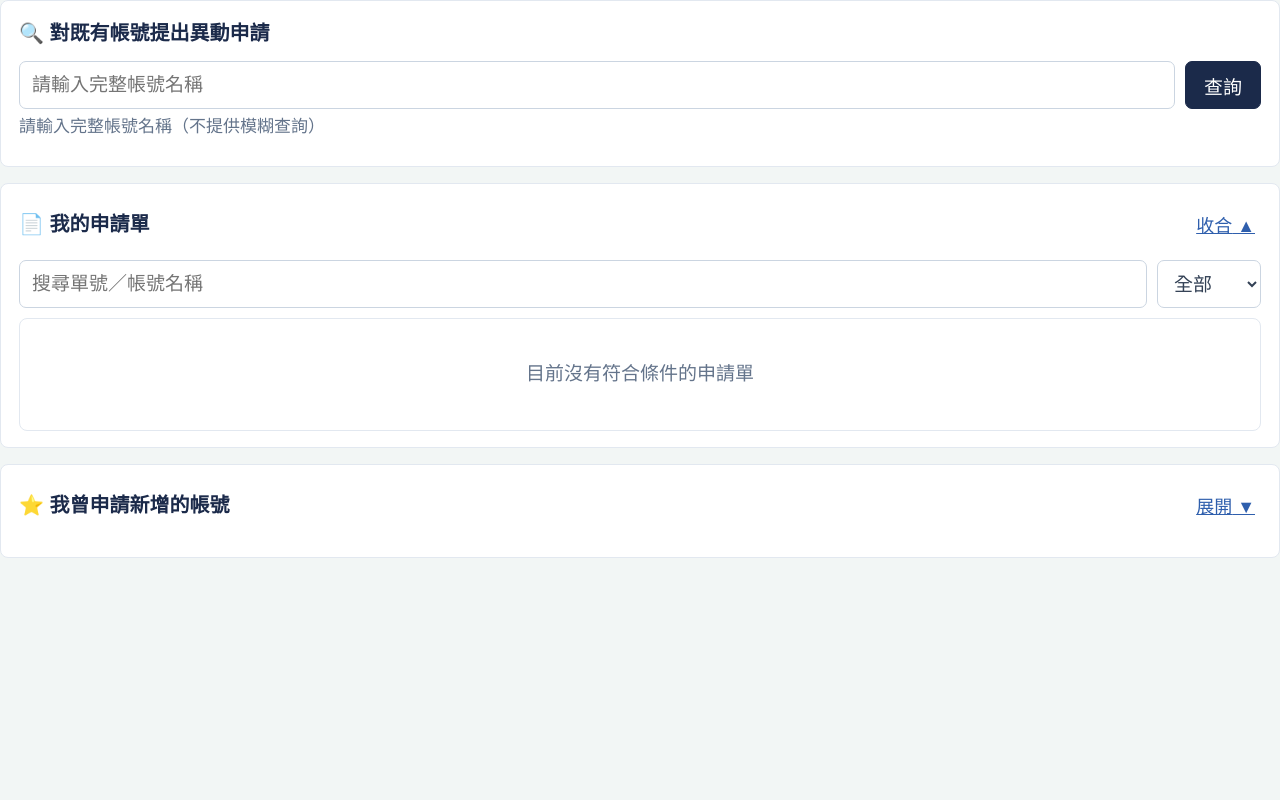
Test: 帳號申請單列表 › 區塊順序：我的申請單在我曾申請新增的帳號上方；預設前者展開、後者收合；鈕可切換；收合只藏不拆
Expected: the button with class "sec-toggle" shows "收合", top-left (1190, 200), bottom-right (1261, 248)
Expected: the button with class "sec-toggle" shows "展開", top-left (1190, 481), bottom-right (1261, 529)
收合期間保留篩選狀態：輸入關鍵字 → 收合 → 展開，值還在
Type "AR9" into the field named "搜尋單號或帳號名稱" at (583, 284), box top-left (19, 260), bottom-right (1147, 308)
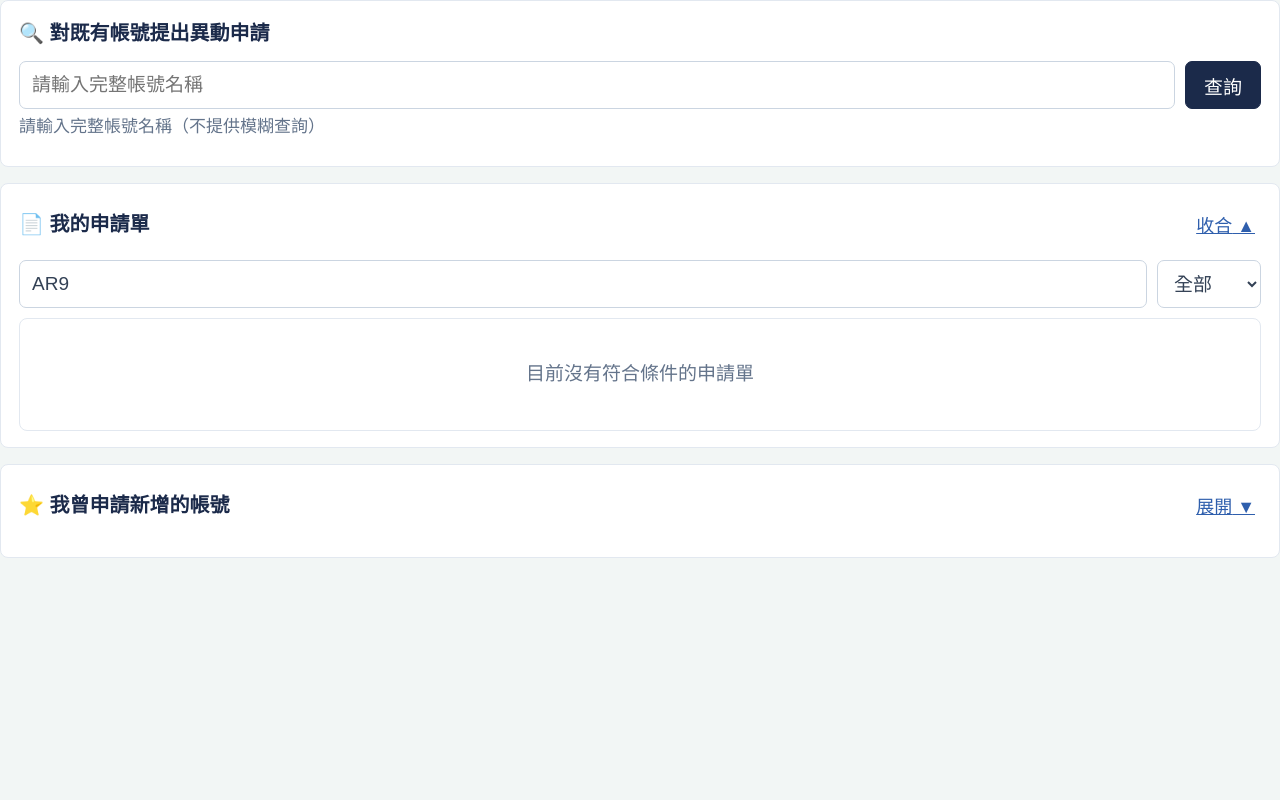
Click the button with class "sec-toggle" showing "收合 ▲" at (1226, 224), box top-left (1190, 200), bottom-right (1261, 248)
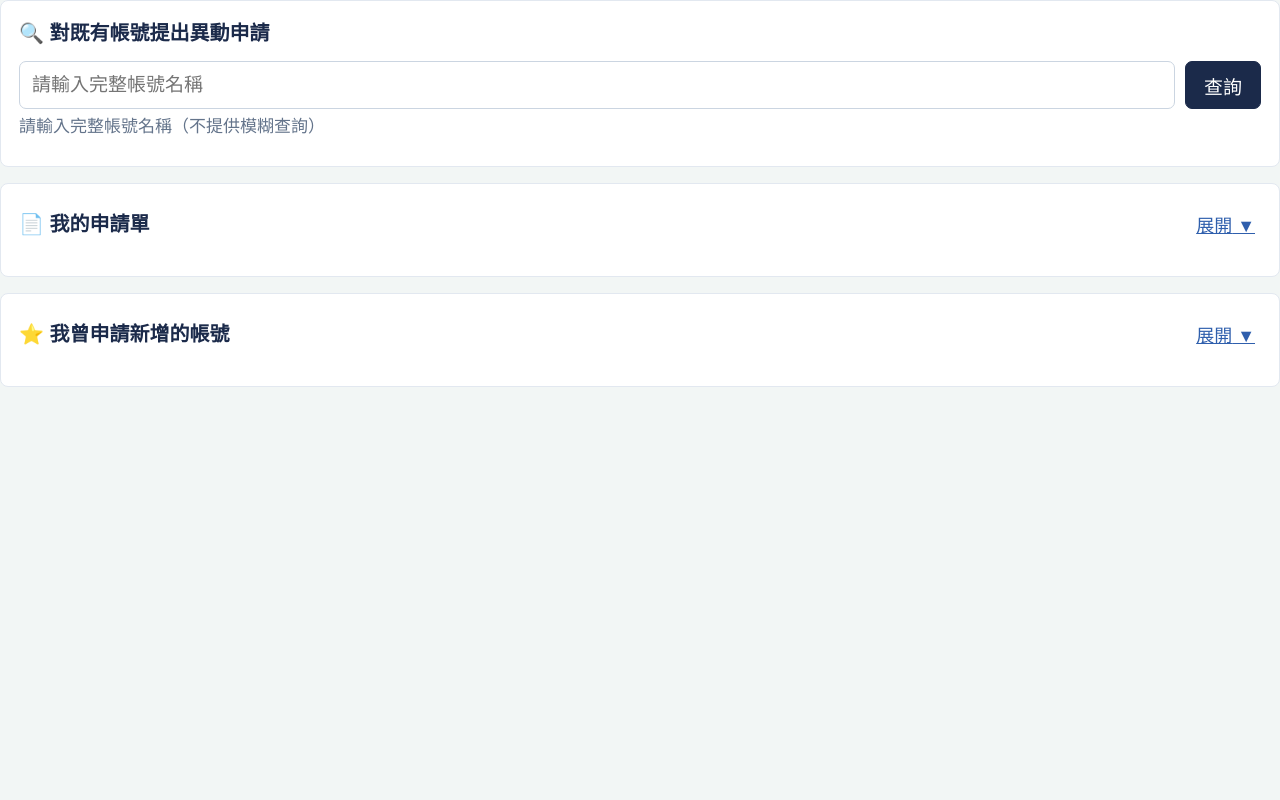
Result: the button with class "sec-toggle" in the row of "📄 我的申請單" shows "展開"
Result: the button with class "sec-toggle" in the row of "📄 我的申請單" is collapsed
Click the button with class "sec-toggle" in the row of "📄 我的申請單" at (1226, 224), box top-left (1190, 200), bottom-right (1261, 248)
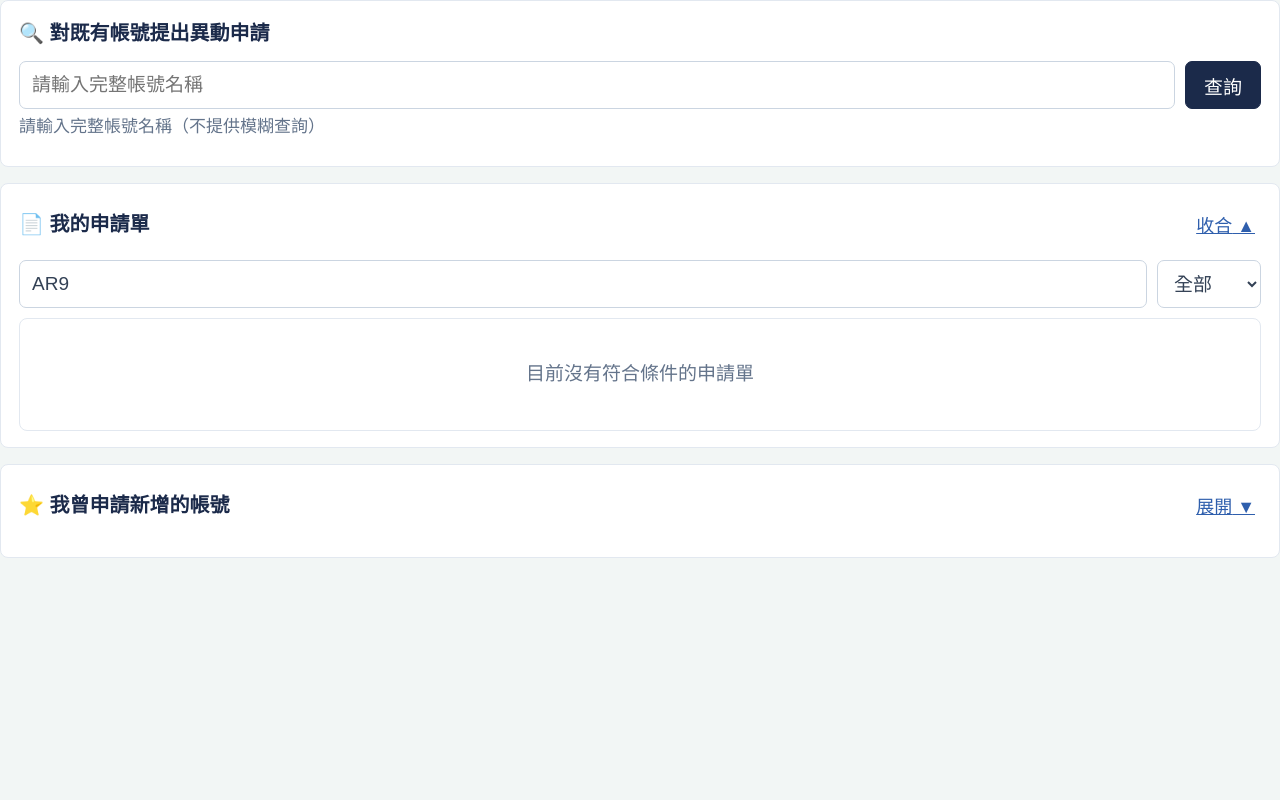
Click the button with class "sec-toggle" showing "展開 ▼" at (1226, 505), box top-left (1190, 481), bottom-right (1261, 529)
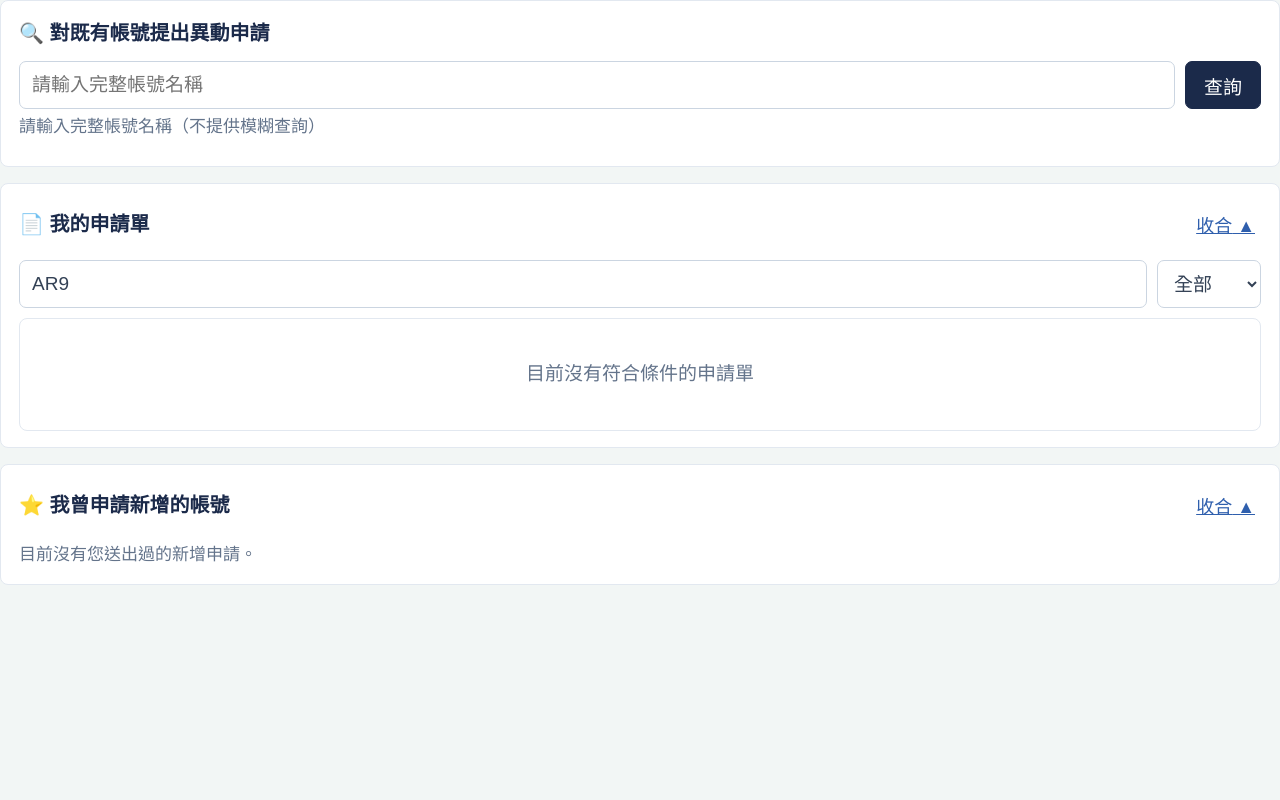
Result: the button with class "sec-toggle" in the row of "⭐ 我曾申請新增的帳號" shows "收合" at top-left (1190, 481), bottom-right (1261, 529)
Result: the button with class "sec-toggle" in the row of "⭐ 我曾申請新增的帳號" is expanded at top-left (1190, 481), bottom-right (1261, 529)
